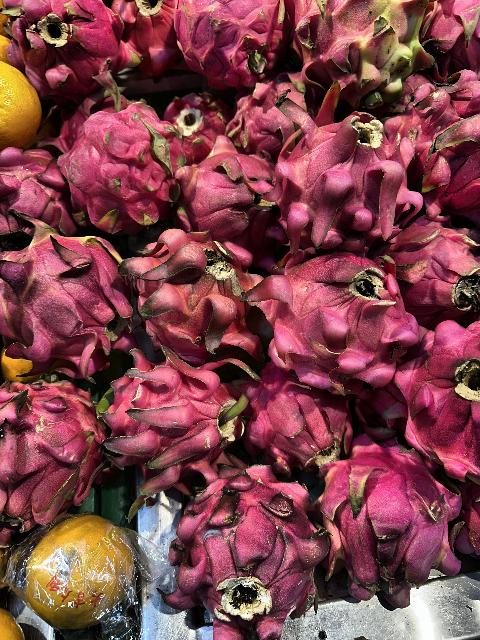buah-naga-belum-matang: (0, 216, 138, 368), (291, 0, 431, 96)
buah-naga-matang: (176, 462, 336, 640), (274, 67, 424, 253), (246, 246, 414, 386), (316, 439, 460, 601), (91, 360, 252, 472), (0, 360, 108, 524), (132, 225, 253, 359), (66, 96, 186, 224), (404, 310, 480, 488), (18, 0, 144, 100), (176, 140, 284, 252), (402, 70, 480, 218), (242, 367, 350, 468), (172, 0, 288, 86), (386, 217, 480, 317), (0, 144, 70, 244), (230, 70, 308, 142)
